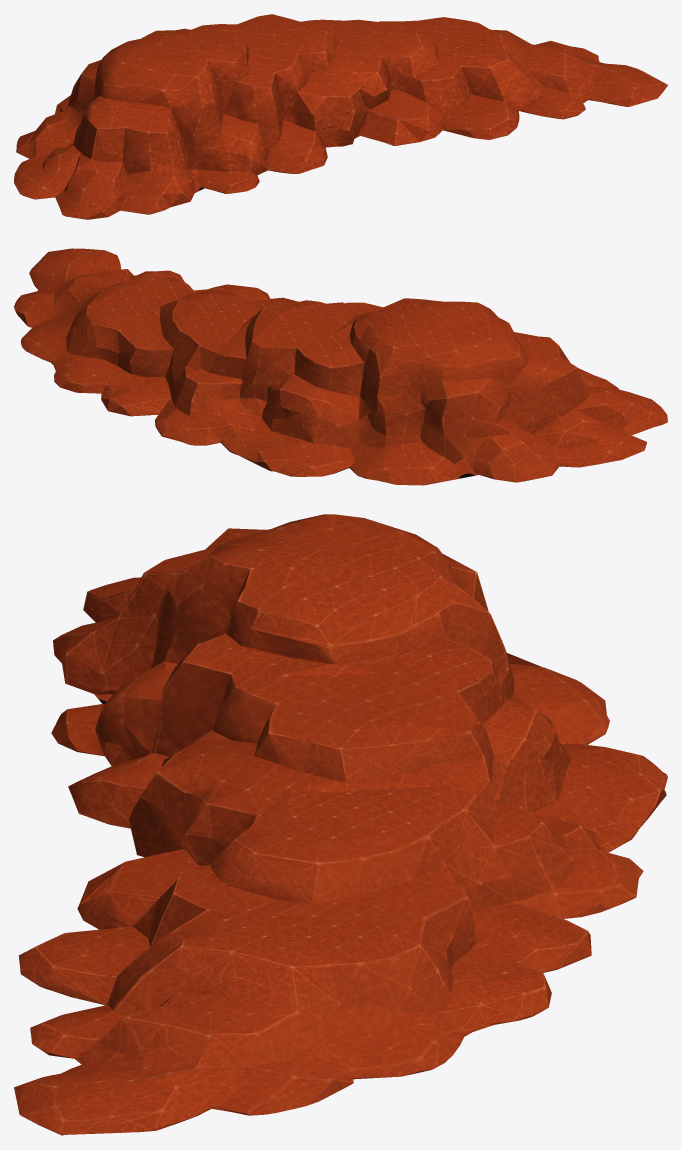
The model's file is desert_ridge_1.glb.
3 views of the same model, one above another, from view 1: azimuth 30°, elevation 25°; view 2: azimuth 150°, elevation 25°; view 3: azimuth 270°, elevation 25° (orthographic). The views are drawn at different scales.
Parts seen in each view (by area): view 1: output_unwrapped; view 2: output_unwrapped; view 3: output_unwrapped.
Boxes of the visible parts, bbox=[...] form: output_unwrapped: bbox=[14, 14, 667, 219]; output_unwrapped: bbox=[14, 248, 667, 485]; output_unwrapped: bbox=[14, 514, 667, 1135].
Size of the model in its own units: 1.9 by 0.2801 by 0.9228.
Materials: 1 (1 with a texture image).
